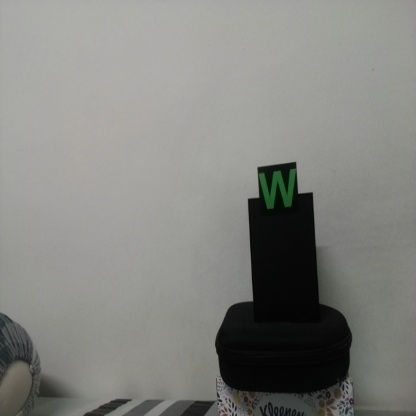id_12: (257, 168, 300, 219)
